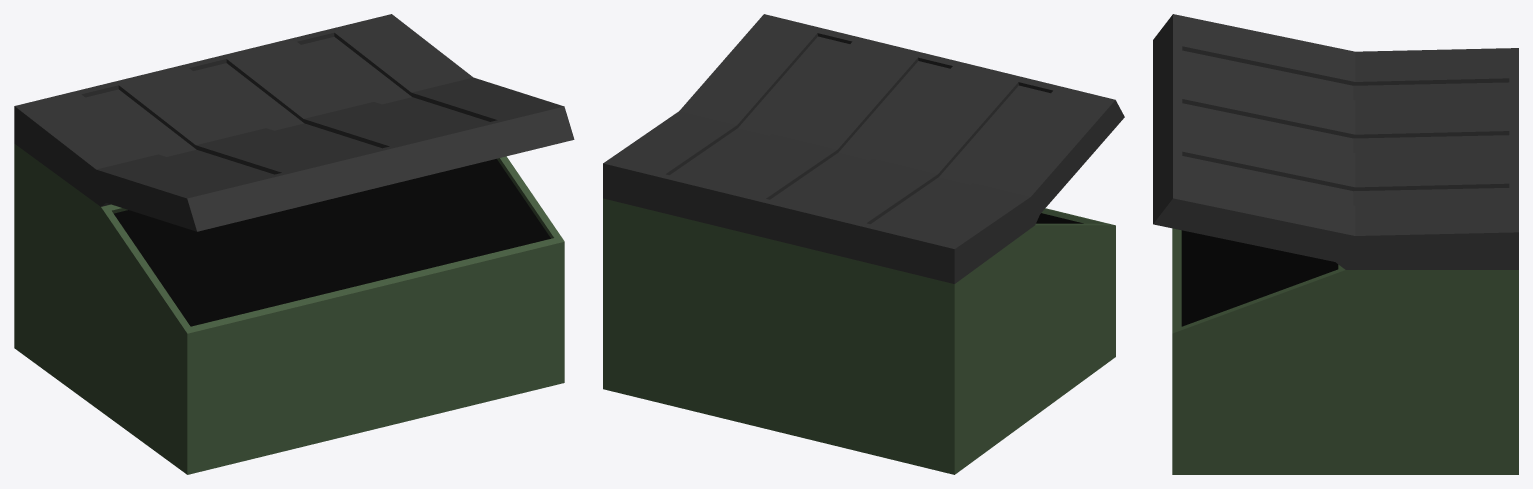
The model's file is Dumpster.fbx.
3 views of the same model, side by side, from view 1: azimuth 30°, elevation 25°; view 2: azimuth 150°, elevation 25°; view 3: azimuth 270°, elevation 25° (orthographic). The views are drawn at different scales.
Parts seen in each view (by area): view 1: Cube; view 2: Cube; view 3: Cube.
Part boxes in pixels (x1=…): Cube: x1=14, y1=14, x2=574, y2=474; Cube: x1=603, y1=14, x2=1124, y2=474; Cube: x1=1153, y1=14, x2=1518, y2=474.
Size of the model in its own units: 200 by 140 by 168.
